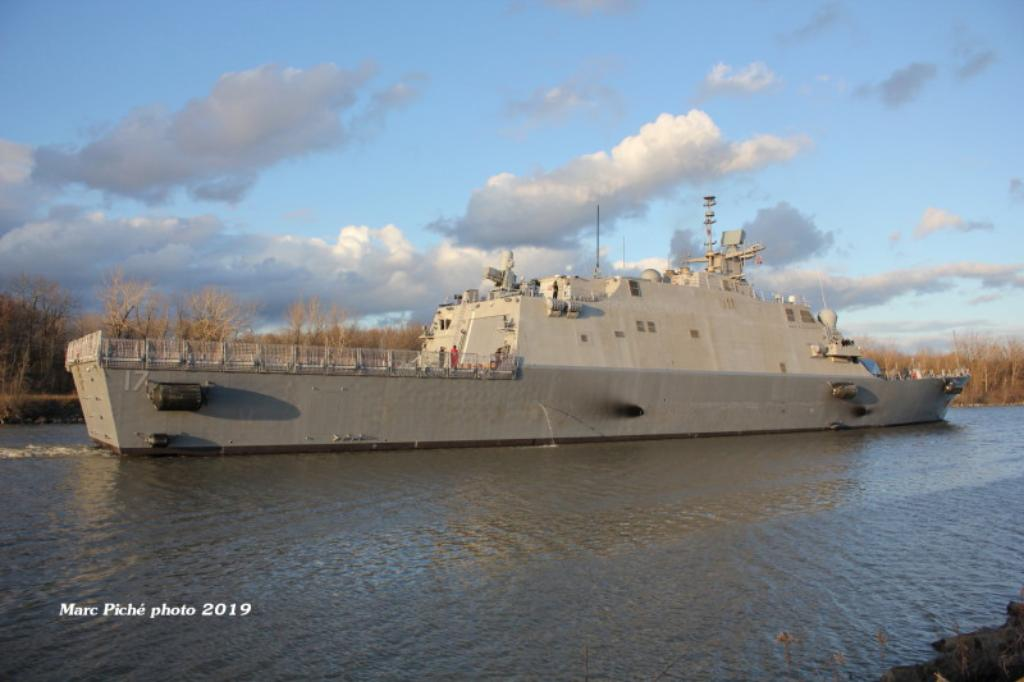Warship: (66, 195, 970, 456)
